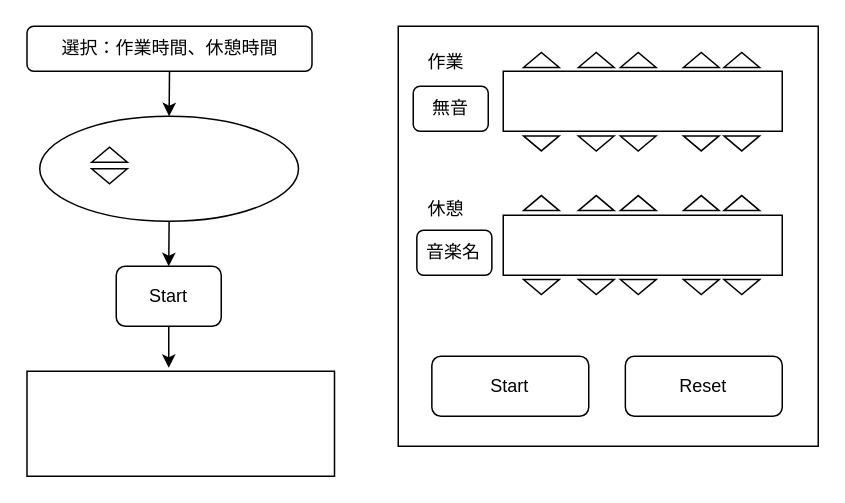
Some shapes in this 845 by 503 pixel diagram are drawn without their labels. Here are the shapes that lost their labels. From the top down, the centre of each, then its label:
point (168, 168): ボタンで時間選択
point (180, 423): 表示：作業時間のカウントダウン Startボタン：表示/機能がStopになる
